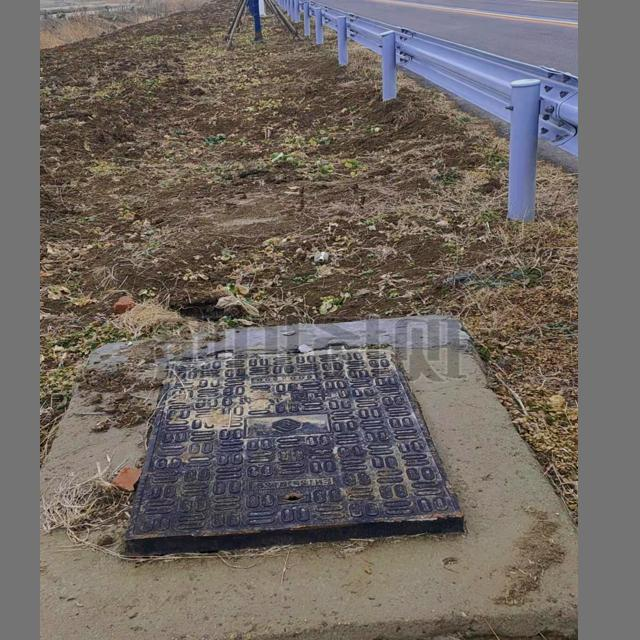good: (114, 339, 470, 555)
